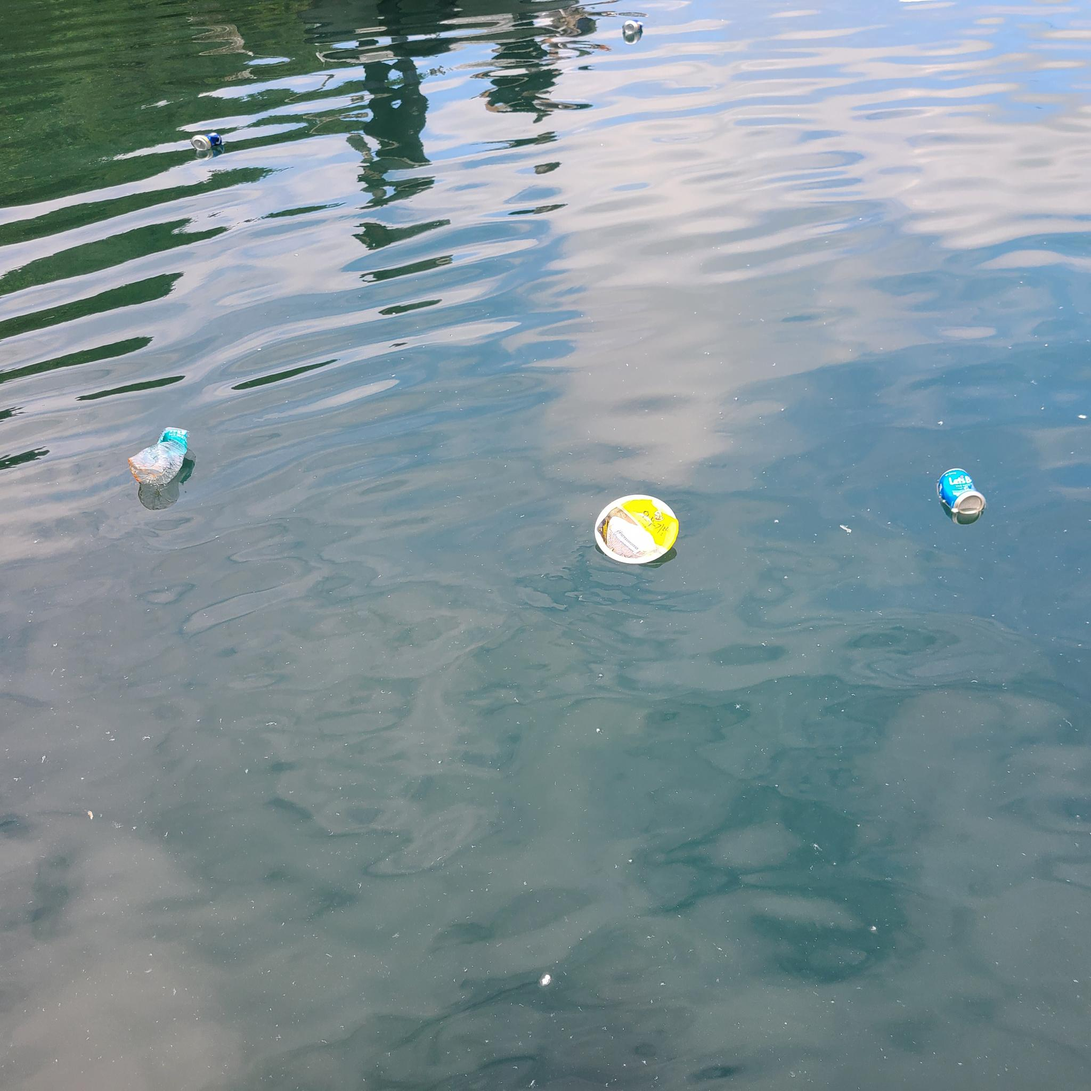sampah_terapung: (595, 495, 680, 565), (128, 427, 191, 486), (939, 468, 987, 515), (191, 132, 223, 151), (624, 20, 644, 35)
